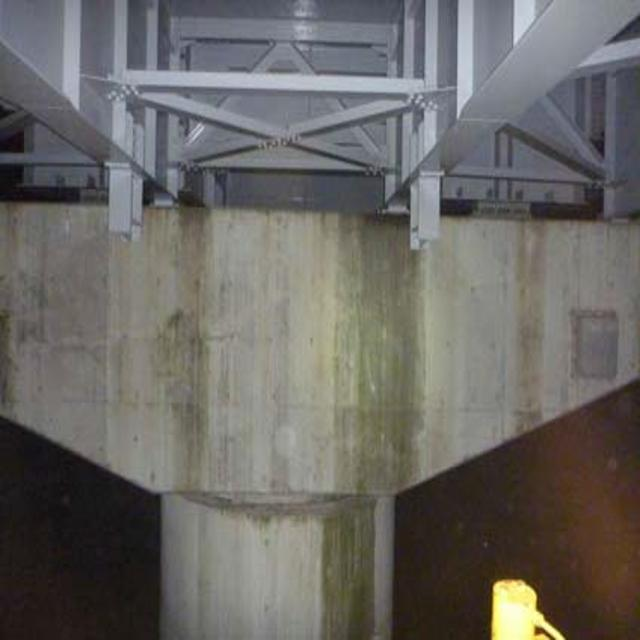leakage: (322, 201, 417, 640), (172, 194, 228, 502), (518, 210, 552, 431)
